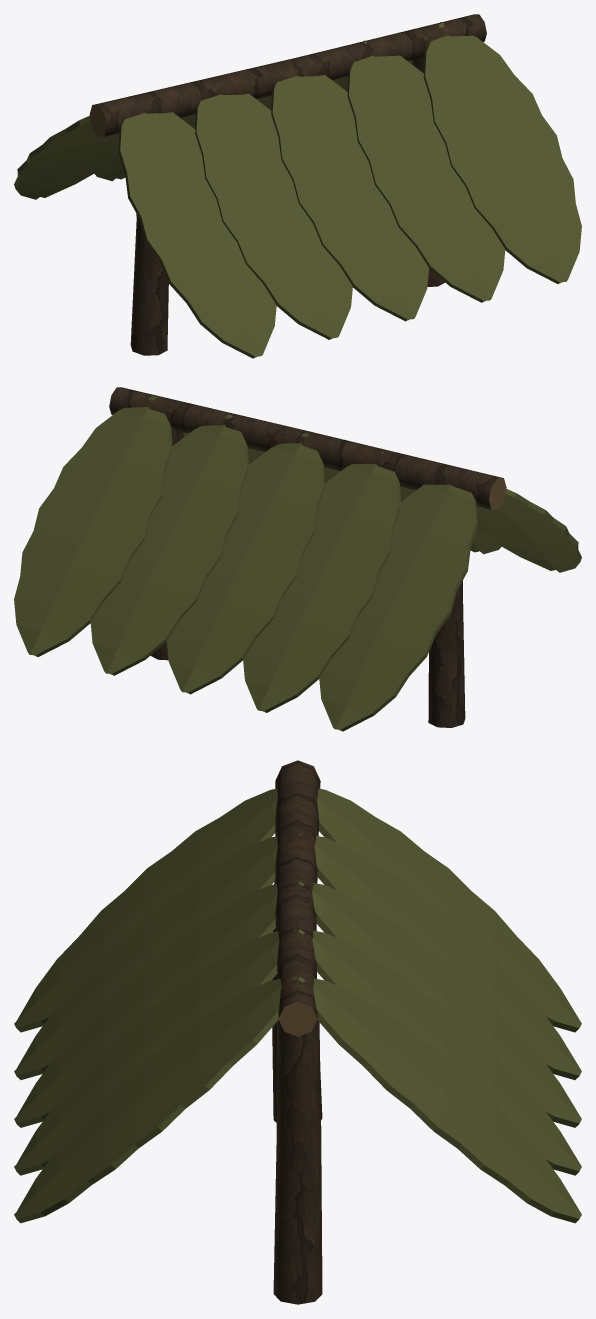
The picture shows the model from 3 angles, top to bottom: view 1: azimuth 30°, elevation 25°; view 2: azimuth 150°, elevation 25°; view 3: azimuth 270°, elevation 25°; orthographic projection. The views are drawn at different scales.
Visible parts, largest first — view 1: Shelter fork; view 2: Shelter fork; view 3: Shelter fork.
Boxes of the visible parts, x1,y1,x2,y2 form: Shelter fork: (14,14,581,358); Shelter fork: (14,387,581,731); Shelter fork: (14,760,581,1304).
Size of the model in its own units: 3.26 by 1.92 by 3.02.
3 materials, 1 textured.
